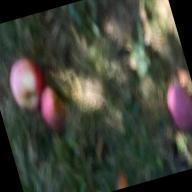Apples: (4, 54, 51, 113), (35, 84, 70, 132), (162, 80, 192, 132)
